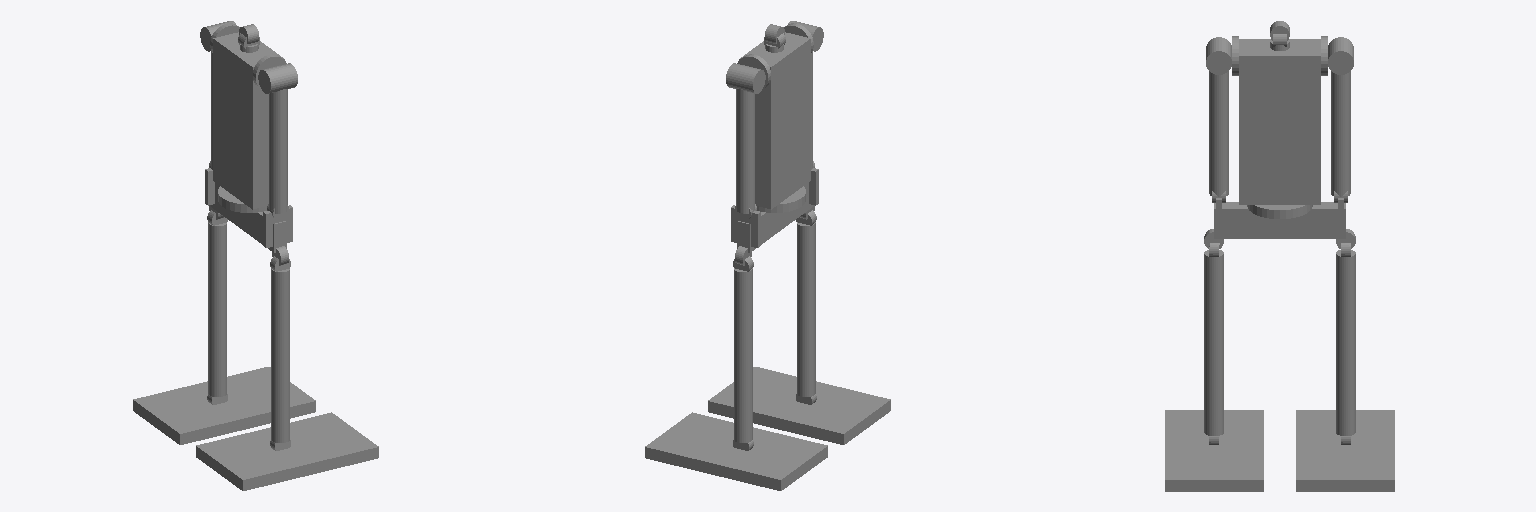
--- Render facts (derived) ---
The picture shows the robot from 3 angles, left to right: view 1: azimuth 30°, elevation 25°; view 2: azimuth 150°, elevation 25°; view 3: azimuth 270°, elevation 25°; orthographic projection.
Robot: stickRobot — 33 links, 32 joints (32 revolute); root link pelvis; default pose: every joint at zero.
Links seen in each view (by area): view 1: rightFoot, leftFoot, chest, torsoPitchLink, rightHipPitchLink, leftHipPitchLink, leftKneePitchLink, rightKneePitchLink, pelvis, rightElbowPitchLink, rightShoulderYawLink, rightShoulderRollLink (+1 smaller); view 2: leftFoot, rightFoot, chest, torsoPitchLink, leftHipPitchLink, rightHipPitchLink, rightKneePitchLink, leftKneePitchLink, pelvis, leftElbowPitchLink, leftShoulderYawLink, leftShoulderRollLink (+1 smaller); view 3: leftFoot, rightFoot, chest, torsoPitchLink, pelvis, leftHipPitchLink, rightHipPitchLink, leftKneePitchLink, rightKneePitchLink, rightElbowPitchLink, leftElbowPitchLink, rightShoulderYawLink (+4 smaller).
Boxes of the visible links, x1,y1,x2,y2 form: rightFoot: [196, 412, 378, 490]; leftFoot: [133, 367, 315, 444]; chest: [213, 32, 284, 137]; torsoPitchLink: [213, 110, 268, 209]; rightHipPitchLink: [271, 269, 289, 357]; leftHipPitchLink: [208, 223, 226, 311]; leftKneePitchLink: [208, 309, 226, 396]; rightKneePitchLink: [271, 355, 289, 442]; pelvis: [211, 183, 286, 252]; rightElbowPitchLink: [269, 142, 287, 201]; rightShoulderYawLink: [269, 89, 287, 144]; rightShoulderRollLink: [258, 63, 297, 93]; leftFoot: [645, 412, 827, 490]; rightFoot: [708, 367, 890, 444]; chest: [739, 32, 810, 137]; torsoPitchLink: [755, 110, 810, 209]; leftHipPitchLink: [734, 268, 752, 357]; rightHipPitchLink: [797, 222, 815, 311]; rightKneePitchLink: [797, 309, 815, 396]; leftKneePitchLink: [734, 355, 752, 442]; pelvis: [737, 183, 812, 252]; leftElbowPitchLink: [736, 142, 754, 201]; leftShoulderYawLink: [736, 89, 754, 144]; leftShoulderRollLink: [726, 63, 765, 93]; leftFoot: [1296, 410, 1394, 491]; rightFoot: [1165, 410, 1263, 491]; chest: [1239, 39, 1320, 129]; torsoPitchLink: [1239, 130, 1320, 204]; pelvis: [1214, 202, 1345, 238]; leftHipPitchLink: [1336, 250, 1355, 346]; rightHipPitchLink: [1204, 250, 1223, 346]; leftKneePitchLink: [1336, 344, 1355, 435]; rightKneePitchLink: [1204, 344, 1223, 435]; rightElbowPitchLink: [1209, 123, 1228, 185]; leftElbowPitchLink: [1331, 123, 1350, 185]; rightShoulderYawLink: [1209, 71, 1228, 125].
Bounding box of the posed robot: 0.5 × 0.7 × 1.44 m (x, y, z).
Geometry: primitives only (box / cylinder / sphere), no mesh files.

robot.urdf — stickRobot:
<?xml version="1.0" ?>
<!-- =================================================================================== -->
<!-- |    This document was autogenerated by xacro from stickbot_humanoid_32dof_controlit/xacro/stickbot_humanoid_32dof.xacro | -->
<!-- |    EDITING THIS FILE BY HAND IS NOT RECOMMENDED                                 | -->
<!-- =================================================================================== -->
<robot name="stickRobot" xmlns:xacro="http://ros.org/wiki/xacro">
  <!-- Its seems that zero mass links are not kosher. I can't find any solid data, only suggestions from people
    as to what small but not too small should be for mass numbers.
    Until better evidence/experience says otherwise, we will use a mass that is ~0.1% * total_mass, and
    the inertia properties of a cylinder. Justification: Most of these virtual links are the rotor attached
    to gearing and any attachment structure.
     -->
  <link name="pelvis">
    <inertial>
      <mass value="2"/>
      <origin xyz="0.0 0.0 0.05"/>
      <inertia ixx="0.008667" ixy="0" ixz="0" iyy="0.008667" iyz="0" izz="0.01667"/>
    </inertial>
    <visual>
      <origin rpy="0 0 0 " xyz="0.0 -0.0 0.05"/>
      <geometry name="pelvis">
        <box size="0.05 0.4 0.1"/>
      </geometry>
      <material name="grey">
        <color rgba="0.627 0.627 0.627 1"/>
      </material>
    </visual>
    <collision>
      <origin rpy="0 0 0 " xyz="0.0 -0.0 0.05"/>
      <geometry name="pelvis">
        <box size="0.05 0.4 0.1"/>
      </geometry>
    </collision>
  </link>
  <!--LEFT LEG-->
  <joint name="leftHipYaw" type="revolute">
    <axis xyz="0 0 1"/>
    <origin rpy="0 0 0" xyz="0 0.2 0.0"/>
    <parent link="pelvis"/>
    <child link="leftHipYawLink"/>
    <dynamics damping="0.1"/>
    <limit effort="100" lower="-3.14" upper="3.14" velocity="1"/>
    <provide_feedback>true</provide_feedback>
  </joint>
  <link name="leftHipYawLink">
    <inertial>
      <mass value="2.0"/>
      <origin xyz="0.0 0.0 -0.015"/>
      <inertia ixx="0.00015" ixy="0" ixz="0" iyy="0.00015" iyz="0" izz="0.000225"/>
    </inertial>
    <visual>
      <origin rpy="0 1.507 0" xyz="0 0.0 -0.015"/>
      <geometry name="leftHipYawLink">
        <cylinder length="0.03" radius="0.03"/>
      </geometry>
      <material name="grey">
        <color rgba="0.627 0.627 0.627 1"/>
      </material>
    </visual>
    <collision>
      <origin rpy="1.507 0 0.0 " xyz="0 0.0 -0.015"/>
      <geometry name="leftHipYawLink">
        <cylinder length="0.03" radius="0.03"/>
      </geometry>
    </collision>
  </link>
  <joint name="leftHipRoll" type="revolute">
    <axis xyz="0 1 0"/>
    <origin rpy="0 0 0" xyz="0 0 -0.03"/>
    <parent link="leftHipYawLink"/>
    <child link="leftHipRollLink"/>
    <dynamics damping="0.1"/>
    <limit effort="100" lower="-3.14" upper="3.14" velocity="1"/>
    <provide_feedback>true</provide_feedback>
  </joint>
  <link name="leftHipRollLink">
    <inertial>
      <mass value="2.0"/>
      <origin xyz="0.0 0.0 -0.015"/>
      <inertia ixx="0.00015" ixy="0" ixz="0" iyy="0.00015" iyz="0" izz="0.000225"/>
    </inertial>
    <visual>
      <origin rpy="1.507 0 0" xyz="0 0 -0.015"/>
      <geometry name="leftHipRollLink">
        <cylinder length="0.03" radius="0.03"/>
      </geometry>
      <material name="grey">
        <color rgba="0.627 0.627 0.627 1"/>
      </material>
    </visual>
    <collision>
      <origin rpy="1.507 0 0.0 " xyz="0 0 -0.015"/>
      <geometry name="leftHipRollLink">
        <cylinder length="0.03" radius="0.03"/>
      </geometry>
    </collision>
  </link>
  <joint name="leftHipPitch" type="revolute">
    <axis xyz="1 0 0"/>
    <origin rpy="0 0 0" xyz="0 0 -0.03"/>
    <parent link="leftHipRollLink"/>
    <child link="leftHipPitchLink"/>
    <dynamics damping="0.1"/>
    <limit effort="100" lower="-3.14" upper="3.14" velocity="1"/>
    <provide_feedback>true</provide_feedback>
  </joint>
  <link name="leftHipPitchLink">
    <inertial>
      <mass value="2.0"/>
      <origin xyz="-0.0 0 -0.15"/>
      <inertia ixx="0.01545" ixy="0" ixz="0" iyy="0.01545" iyz="0" izz="0.0009"/>
    </inertial>
    <visual>
      <origin rpy="0 0 0 " xyz="0 0 -0.15"/>
      <geometry name="leftHipPitchLink">
        <cylinder length="0.3" radius="0.03"/>
      </geometry>
      <material name="grey">
        <color rgba="0.627 0.627 0.627 1"/>
      </material>
    </visual>
    <collision>
      <origin rpy="0 0 0 " xyz="0 0 -0.3"/>
      <geometry name="leftHipPitchLink">
        <cylinder length="0.3" radius="0.03"/>
      </geometry>
    </collision>
  </link>
  <joint name="leftKneePitch" type="revolute">
    <axis xyz="0 1 0"/>
    <origin rpy="0 0 0" xyz="0 0 -0.3"/>
    <parent link="leftHipPitchLink"/>
    <child link="leftKneePitchLink"/>
    <dynamics damping="0.1"/>
    <limit effort="100" lower="-3.14" upper="3.14" velocity="1"/>
    <provide_feedback>true</provide_feedback>
  </joint>
  <link name="leftKneePitchLink">
    <inertial>
      <mass value="2.0"/>
      <origin xyz="-0.0 0 -0.15"/>
      <inertia ixx="0.01545" ixy="0" ixz="0" iyy="0.01545" iyz="0" izz="0.0009"/>
    </inertial>
    <visual>
      <origin rpy="0 0 0 " xyz="0 0 -0.15"/>
      <geometry name="leftKneePitchLink">
        <cylinder length="0.3" radius="0.03"/>
      </geometry>
      <material name="grey">
        <color rgba="0.627 0.627 0.627 1"/>
      </material>
    </visual>
    <collision>
      <origin rpy="0 0 0 " xyz="0 0 -0.15"/>
      <geometry name="leftKneePitchLink">
        <cylinder length="0.3" radius="0.03"/>
      </geometry>
    </collision>
  </link>
  <joint name="leftAnklePitch" type="revolute">
    <axis xyz="0 1 0"/>
    <origin rpy="0 0 0" xyz="0 0 -0.3"/>
    <parent link="leftKneePitchLink"/>
    <child link="leftAnklePitchLink"/>
    <dynamics damping="0.1"/>
    <limit effort="100" lower="-3.14" upper="3.14" velocity="1"/>
    <provide_feedback>true</provide_feedback>
  </joint>
  <link name="leftAnklePitchLink">
    <inertial>
      <mass value="3.0"/>
      <origin xyz="0.0 0.0 -0.015"/>
      <inertia ixx="0.00015" ixy="0" ixz="0" iyy="0.00015" iyz="0" izz="0.000225"/>
    </inertial>
    <visual>
      <origin rpy="1.507 0 0" xyz="0 0 -0.015"/>
      <geometry name="leftAnklePitchLink">
        <cylinder length="0.03" radius="0.03"/>
      </geometry>
      <material name="grey">
        <color rgba="0.627 0.627 0.627 1"/>
      </material>
    </visual>
    <collision>
      <origin rpy="0 0 0.0 " xyz="0 0 -0.015"/>
      <geometry name="leftAnklePitchLink">
        <cylinder length="0.03" radius="0.03"/>
      </geometry>
    </collision>
  </link>
  <joint name="leftAnkleRoll" type="revolute">
    <axis xyz="1 0 0"/>
    <origin rpy="0 0 0" xyz="0.025 0 -0.03"/>
    <parent link="leftAnklePitchLink"/>
    <child link="leftFoot"/>
    <dynamics damping="0.1"/>
    <limit effort="100" lower="-3.14" upper="3.14" velocity="1"/>
    <provide_feedback>true</provide_feedback>
  </joint>
  <link name="leftFoot">
    <inertial>
      <mass value="10"/>
      <origin xyz="0.03 0 -0.01"/>
      <inertia ixx="0.008667" ixy="0" ixz="0" iyy="0.008667" iyz="0" izz="0.01667"/>
    </inertial>
    <visual>
      <origin rpy="0 0 0 " xyz="0.0 0 -0.02"/>
      <geometry name="leftFoot">
        <box size="0.5 0.3 0.04"/>
      </geometry>
      <material name="grey">
        <color rgba="0.627 0.627 0.627 1"/>
      </material>
    </visual>
    <collision>
      <origin rpy="0 0 0 " xyz="0.0 0 -0.02"/>
      <geometry name="leftFoot">
        <box size="0.5 0.3 0.04"/>
      </geometry>
    </collision>
  </link>
  <!--RIGHT LEG-->
  <joint name="rightHipYaw" type="revolute">
    <axis xyz="0 0 1"/>
    <origin rpy="0 0 0" xyz="0 -0.2 0.0"/>
    <dynamics damping="0.1"/>
    <parent link="pelvis"/>
    <child link="rightHipYawLink"/>
    <limit effort="100" lower="-3.14" upper="3.14" velocity="1"/>
    <provide_feedback>true</provide_feedback>
  </joint>
  <link name="rightHipYawLink">
    <inertial>
      <mass value="2.0"/>
      <origin xyz="0.0 0.0 -0.015"/>
      <inertia ixx="0.00015" ixy="0" ixz="0" iyy="0.00015" iyz="0" izz="0.000225"/>
    </inertial>
    <visual>
      <origin rpy="0 1.507 0" xyz="0 0.0 -0.015"/>
      <geometry name="rightHipYawLink">
        <cylinder length="0.03" radius="0.03"/>
      </geometry>
      <material name="grey">
        <color rgba="0.627 0.627 0.627 1"/>
      </material>
    </visual>
    <collision>
      <origin rpy="1.507 0 0.0 " xyz="0 0.0 -0.015"/>
      <geometry name="rightHipYawLink">
        <cylinder length="0.03" radius="0.03"/>
      </geometry>
    </collision>
  </link>
  <joint name="rightHipRoll" type="revolute">
    <axis xyz="0 1 0"/>
    <origin rpy="0 0 0" xyz="0 0 -0.03"/>
    <dynamics damping="0.1"/>
    <parent link="rightHipYawLink"/>
    <child link="rightHipRollLink"/>
    <limit effort="100" lower="-3.14" upper="3.14" velocity="1"/>
    <provide_feedback>true</provide_feedback>
  </joint>
  <link name="rightHipRollLink">
    <inertial>
      <mass value="2.0"/>
      <origin xyz="0.0 0.0 -0.015"/>
      <inertia ixx="0.00015" ixy="0" ixz="0" iyy="0.00015" iyz="0" izz="0.000225"/>
    </inertial>
    <visual>
      <origin rpy="1.507 0 0" xyz="0 0 -0.015"/>
      <geometry name="rightHipRollLink">
        <cylinder length="0.03" radius="0.03"/>
      </geometry>
      <material name="grey">
        <color rgba="0.627 0.627 0.627 1"/>
      </material>
    </visual>
    <collision>
      <origin rpy="1.507 0 0.0 " xyz="0 0 -0.015"/>
      <geometry name="rightHipRollLink">
        <cylinder length="0.03" radius="0.03"/>
      </geometry>
    </collision>
  </link>
  <joint name="rightHipPitch" type="revolute">
    <axis xyz="1 0 0"/>
    <origin rpy="0 0 0" xyz="0 0 -0.03"/>
    <parent link="rightHipRollLink"/>
    <child link="rightHipPitchLink"/>
    <dynamics damping="0.1"/>
    <limit effort="100" lower="-3.14" upper="3.14" velocity="1"/>
    <provide_feedback>true</provide_feedback>
  </joint>
  <link name="rightHipPitchLink">
    <inertial>
      <mass value="2.0"/>
      <origin xyz="-0.0 0 -0.15"/>
      <inertia ixx="0.01545" ixy="0" ixz="0" iyy="0.01545" iyz="0" izz="0.0009"/>
    </inertial>
    <visual>
      <origin rpy="0 0 0 " xyz="0 0 -0.15"/>
      <geometry name="rightHipPitchLink">
        <cylinder length="0.3" radius="0.03"/>
      </geometry>
      <material name="grey">
        <color rgba="0.627 0.627 0.627 1"/>
      </material>
    </visual>
    <collision>
      <origin rpy="0 0 0 " xyz="0 0 -0.3"/>
      <geometry name="rightHipPitchLink">
        <cylinder length="0.3" radius="0.03"/>
      </geometry>
    </collision>
  </link>
  <joint name="rightKneePitch" type="revolute">
    <axis xyz="0 1 0"/>
    <origin rpy="0 0 0" xyz="0 0 -0.3"/>
    <parent link="rightHipPitchLink"/>
    <child link="rightKneePitchLink"/>
    <dynamics damping="0.1"/>
    <limit effort="100" lower="-3.14" upper="3.14" velocity="1"/>
    <provide_feedback>true</provide_feedback>
  </joint>
  <link name="rightKneePitchLink">
    <inertial>
      <mass value="2.0"/>
      <origin xyz="-0.0 0 -0.15"/>
      <inertia ixx="0.01545" ixy="0" ixz="0" iyy="0.01545" iyz="0" izz="0.0009"/>
    </inertial>
    <visual>
      <origin rpy="0 0 0 " xyz="0 0 -0.15"/>
      <geometry name="rightKneePitchLink">
        <cylinder length="0.3" radius="0.03"/>
      </geometry>
      <material name="grey">
        <color rgba="0.627 0.627 0.627 1"/>
      </material>
    </visual>
    <collision>
      <origin rpy="0 0 0 " xyz="0 0 -0.15"/>
      <geometry name="rightKneePitchLink">
        <cylinder length="0.3" radius="0.03"/>
      </geometry>
    </collision>
  </link>
  <joint name="rightAnklePitch" type="revolute">
    <axis xyz="0 1 0"/>
    <origin rpy="0 0 0" xyz="0 0 -0.3"/>
    <dynamics damping="0.1"/>
    <parent link="rightKneePitchLink"/>
    <child link="rightAnklePitchLink"/>
    <limit effort="100" lower="-3.14" upper="3.14" velocity="1"/>
    <provide_feedback>true</provide_feedback>
  </joint>
  <link name="rightAnklePitchLink">
    <inertial>
      <mass value="3.0"/>
      <origin xyz="0.0 0.0 -0.015"/>
      <inertia ixx="0.00015" ixy="0" ixz="0" iyy="0.00015" iyz="0" izz="0.000225"/>
    </inertial>
    <visual>
      <origin rpy="1.507 0 0" xyz="0 0 -0.015"/>
      <geometry name="rightAnklePitchLink">
        <cylinder length="0.03" radius="0.03"/>
      </geometry>
      <material name="grey">
        <color rgba="0.627 0.627 0.627 1"/>
      </material>
    </visual>
    <collision>
      <origin rpy="1.507 0 0" xyz="0 0 -0.015"/>
      <geometry name="rightAnklePitchLink">
        <cylinder length="0.03" radius="0.03"/>
      </geometry>
    </collision>
  </link>
  <joint name="rightAnkleRoll" type="revolute">
    <axis xyz="1 0 0"/>
    <origin rpy="0 0 0" xyz="0.025 0 -0.03"/>
    <parent link="rightAnklePitchLink"/>
    <child link="rightFoot"/>
    <dynamics damping="0.1"/>
    <limit effort="100" lower="-3.14" upper="3.14" velocity="1"/>
    <provide_feedback>true</provide_feedback>
  </joint>
  <link name="rightFoot">
    <inertial>
      <mass value="10"/>
      <origin xyz="0.03 0 -0.02"/>
      <inertia ixx="0.008667" ixy="0" ixz="0" iyy="0.008667" iyz="0" izz="0.01667"/>
    </inertial>
    <visual>
      <origin rpy="0 0 0 " xyz="0.0 0 -0.02"/>
      <geometry name="rightFoot">
        <box size="0.5 0.3 0.04"/>
      </geometry>
      <material name="grey">
        <color rgba="0.627 0.627 0.627 1"/>
      </material>
    </visual>
    <collision>
      <origin rpy="0 0 0 " xyz="0.0 0 -0.02"/>
      <geometry name="rightFoot">
        <box size="0.5 0.3 0.04"/>
      </geometry>
    </collision>
  </link>
  <joint name="torsoYaw" type="revolute">
    <axis xyz="0 0 1"/>
    <origin rpy="0 0 0" xyz="0.0 0.0 0.1"/>
    <dynamics damping="0.1"/>
    <parent link="pelvis"/>
    <child link="torsoYawLink"/>
    <limit effort="100" lower="-3.14" upper="3.14" velocity="10"/>
    <provide_feedback>true</provide_feedback>
  </joint>
  <link name="torsoYawLink">
    <inertial>
      <mass value="1.0"/>
      <origin xyz="0.0 0.0 0.125"/>
      <inertia ixx="0.028125" ixy="0" ixz="0" iyy="0.045" iyz="0" izz="0.028125"/>
    </inertial>
    <visual>
      <origin rpy="0.0 0.0 0.0" xyz="0.0 0.0 0.015"/>
      <geometry name="torsoYawLink">
        <cylinder length="0.03" radius="0.1"/>
      </geometry>
      <material name="grey">
        <color rgba="0.627 0.627 0.627 1"/>
      </material>
    </visual>
    <collision>
      <origin rpy="0.0 0.0 0.0" xyz="0.0 0.0 0.015"/>
      <geometry name="torsoYawLink">
        <cylinder length="0.03" radius="0.1"/>
      </geometry>
    </collision>
  </link>
  <joint name="torsoPitch" type="revolute">
    <axis xyz="0 1 0"/>
    <origin rpy="0 0 0" xyz="0.0 0.0 0.03"/>
    <dynamics damping="0.1"/>
    <parent link="torsoYawLink"/>
    <child link="torsoPitchLink"/>
    <limit effort="100" lower="-3.14" upper="3.14" velocity="10"/>
    <provide_feedback>true</provide_feedback>
  </joint>
  <link name="torsoPitchLink">
    <inertial>
      <mass value="2"/>
      <origin xyz="0.0 0.0 0.125"/>
      <inertia ixx="0.028125" ixy="0" ixz="0" iyy="0.045" iyz="0" izz="0.028125"/>
    </inertial>
    <visual>
      <origin rpy="0.0 0.0 0.0" xyz="0.0 0.0 0.125"/>
      <geometry name="torsoPitchLink">
        <box size="0.12 0.25 0.25"/>
      </geometry>
      <material name="grey">
        <color rgba="0.627 0.627 0.627 1"/>
      </material>
    </visual>
    <collision>
      <origin rpy="0.0 0.0 0.0" xyz="0.0 0.0 0.125"/>
      <geometry name="torsoPitchLink">
        <box size="0.12 0.25 0.25"/>
      </geometry>
    </collision>
  </link>
  <joint name="torsoRoll" type="revolute">
    <axis xyz="0 1 0"/>
    <origin rpy="0 0 0" xyz="0.0 0.0 0.25"/>
    <dynamics damping="0.1"/>
    <parent link="torsoPitchLink"/>
    <child link="chest"/>
    <limit effort="100" lower="-3.14" upper="3.14" velocity="10"/>
    <provide_feedback>true</provide_feedback>
  </joint>
  <link name="chest">
    <inertial>
      <mass value="2"/>
      <origin xyz="0.0 0.0 0.125"/>
      <inertia ixx="0.028125" ixy="0" ixz="0" iyy="0.045" iyz="0" izz="0.028125"/>
    </inertial>
    <visual>
      <origin rpy="0.0 0.0 0.0" xyz="0.0 0.0 0.125"/>
      <geometry name="chest">
        <box size="0.12 0.25 0.25"/>
      </geometry>
      <material name="grey">
        <color rgba="0.627 0.627 0.627 1"/>
      </material>
    </visual>
    <collision>
      <origin rpy="0.0 0.0 0.0" xyz="0.0 0.0 0.125"/>
      <geometry name="chest">
        <box size="0.12 0.25 0.25"/>
      </geometry>
    </collision>
  </link>
  <joint name="rightShoulderPitch" type="revolute">
    <axis xyz="0 1 0"/>
    <origin rpy="0 0 0" xyz="0.0 -0.125 0.22"/>
    <dynamics damping="0.1"/>
    <parent link="chest"/>
    <child link="rightShoulderPitchLink"/>
    <limit effort="100" lower="-3.14" upper="3.14" velocity="10"/>
    <provide_feedback>true</provide_feedback>
  </joint>
  <link name="rightShoulderPitchLink">
    <inertial>
      <mass value="1"/>
      <origin xyz="0.0 -0.01 0.0"/>
      <inertia ixx="0.028125" ixy="0" ixz="0" iyy="0.045" iyz="0" izz="0.028125"/>
    </inertial>
    <visual>
      <origin rpy="1.57 0.0 0.0" xyz="0.0 -0.01 0.0"/>
      <geometry name="rightShoulderPitchLink">
        <cylinder length="0.02" radius="0.06"/>
      </geometry>
      <material name="grey">
        <color rgba="0.627 0.627 0.627 1"/>
      </material>
    </visual>
    <collision>
      <origin rpy="1.57 0.0 0.0" xyz="0.0 -0.01 0.0"/>
      <geometry name="rightShoulderPitchLink">
        <cylinder length="0.02" radius="0.06"/>
      </geometry>
    </collision>
  </link>
  <joint name="rightShoulderRoll" type="revolute">
    <axis xyz="1 0 0"/>
    <origin rpy="0 0 0" xyz="0.0 -0.04 0.0"/>
    <dynamics damping="0.1"/>
    <parent link="rightShoulderPitchLink"/>
    <child link="rightShoulderRollLink"/>
    <limit effort="100" lower="-3.14" upper="3.14" velocity="10"/>
    <provide_feedback>true</provide_feedback>
  </joint>
  <link name="rightShoulderRollLink">
    <inertial>
      <mass value="1"/>
      <origin xyz="0.0 -0.02 0.0"/>
      <inertia ixx="0.028125" ixy="0" ixz="0" iyy="0.045" iyz="0" izz="0.028125"/>
    </inertial>
    <visual>
      <origin rpy="0.0 1.57 0.0" xyz="0.0 -0.02 0.0"/>
      <geometry name="rightShoulderRollLink">
        <cylinder length="0.1" radius="0.04"/>
      </geometry>
      <material name="grey">
        <color rgba="0.627 0.627 0.627 1"/>
      </material>
    </visual>
    <collision>
      <origin rpy="0.0 1.57 0.0" xyz="0.0 -0.02 0.0"/>
      <geometry name="rightShoulderRollLink">
        <cylinder length="0.1" radius="0.04"/>
      </geometry>
    </collision>
  </link>
  <joint name="rightShoulderYaw" type="revolute">
    <axis xyz="0 0 1"/>
    <origin rpy="0 0 0" xyz="0.0 -0.02 -0.02"/>
    <dynamics damping="0.1"/>
    <parent link="rightShoulderRollLink"/>
    <child link="rightShoulderYawLink"/>
    <limit effort="100" lower="-3.14" upper="3.14" velocity="10"/>
    <provide_feedback>true</provide_feedback>
  </joint>
  <link name="rightShoulderYawLink">
    <inertial>
      <mass value="2"/>
      <origin xyz="0.0 0.0 -0.1"/>
      <inertia ixx="0.028125" ixy="0" ixz="0" iyy="0.045" iyz="0" izz="0.028125"/>
    </inertial>
    <visual>
      <origin rpy="0.0 0.0 0.0" xyz="0.0 0.0 -0.1"/>
      <geometry name="rightShoulderYawLink">
        <cylinder length="0.2" radius="0.03"/>
      </geometry>
      <material name="grey">
        <color rgba="0.627 0.627 0.627 1"/>
      </material>
    </visual>
    <collision>
      <origin rpy="0.0 0.0 0.0" xyz="0.0 0.0 -0.1"/>
      <geometry name="rightShoulderYawLink">
        <cylinder length="0.2" radius="0.03"/>
      </geometry>
    </collision>
  </link>
  <joint name="rightElbowPitch" type="revolute">
    <axis xyz="0 1 0"/>
    <origin rpy="0 0 0" xyz="0.0 -0.0 -0.2"/>
    <dynamics damping="0.1"/>
    <parent link="rightShoulderYawLink"/>
    <child link="rightElbowPitchLink"/>
    <limit effort="100" lower="-3.14" upper="3.14" velocity="10"/>
    <provide_feedback>true</provide_feedback>
  </joint>
  <link name="rightElbowPitchLink">
    <inertial>
      <mass value="2"/>
      <origin xyz="0.0 0.0 -0.1"/>
      <inertia ixx="0.028125" ixy="0" ixz="0" iyy="0.045" iyz="0" izz="0.028125"/>
    </inertial>
    <visual>
      <origin rpy="0.0 0.0 0.0" xyz="0.0 0.0 -0.1"/>
      <geometry name="rightElbowPitchLink">
        <cylinder length="0.2" radius="0.03"/>
      </geometry>
      <material name="grey">
        <color rgba="0.627 0.627 0.627 1"/>
      </material>
    </visual>
    <collision>
      <origin rpy="0.0 0.0 0.0" xyz="0.0 0.0 -0.1"/>
      <geometry name="rightElbowPitchLink">
        <cylinder length="0.2" radius="0.03"/>
      </geometry>
    </collision>
  </link>
  <joint name="rightForearmYaw" type="revolute">
    <axis xyz="0 0 1"/>
    <origin rpy="0 0 0" xyz="0.0 -0.0 -0.2"/>
    <dynamics damping="0.1"/>
    <parent link="rightElbowPitchLink"/>
    <child link="rightForearmYawLink"/>
    <limit effort="100" lower="-3.14" upper="3.14" velocity="10"/>
    <provide_feedback>true</provide_feedback>
  </joint>
  <link name="rightForearmYawLink">
    <inertial>
      <mass value="2"/>
      <origin xyz="0.0 0.0 -0.02"/>
      <inertia ixx="0.028125" ixy="0" ixz="0" iyy="0.045" iyz="0" izz="0.028125"/>
    </inertial>
    <visual>
      <origin rpy="0.0 0.0 0.0" xyz="0.0 0.0 -0.02"/>
      <geometry name="rightForearmYawLink">
        <cylinder length="0.04" radius="0.03"/>
      </geometry>
      <material name="grey">
        <color rgba="0.627 0.627 0.627 1"/>
      </material>
    </visual>
    <collision>
      <origin rpy="0.0 0.0 0.0" xyz="0.0 0.0 -0.02"/>
      <geometry name="rightForearmYawLink">
        <cylinder length="0.04" radius="0.03"/>
      </geometry>
    </collision>
  </link>
  <joint name="rightWristRoll" type="revolute">
    <axis xyz="0 1 0"/>
    <origin rpy="0 0 0" xyz="0.0 -0.0 -0.02"/>
    <dynamics damping="0.1"/>
    <parent link="rightForearmYawLink"/>
    <child link="rightWristRollLink"/>
    <limit effort="100" lower="-3.14" upper="3.14" velocity="10"/>
    <provide_feedback>true</provide_feedback>
  </joint>
  <link name="rightWristRollLink">
    <inertial>
      <mass value="1"/>
      <origin xyz="0.0 0.0 -0.02"/>
      <inertia ixx="0.028125" ixy="0" ixz="0" iyy="0.045" iyz="0" izz="0.028125"/>
    </inertial>
    <visual>
      <origin rpy="1.57 0.0 0.0" xyz="0.0 0.0 -0.02"/>
      <geometry name="rightWristRollLink">
        <cylinder length="0.04" radius="0.03"/>
      </geometry>
      <material name="grey">
        <color rgba="0.627 0.627 0.627 1"/>
      </material>
    </visual>
    <collision>
      <origin rpy="1.57 0.0 0.0" xyz="0.0 0.0 -0.02"/>
      <geometry name="rightWristRollLink">
        <cylinder length="0.04" radius="0.03"/>
      </geometry>
    </collision>
  </link>
  <joint name="rightWristPitch" type="revolute">
    <axis xyz="0 1 0"/>
    <origin rpy="0 0 0" xyz="0.0 -0.0 -0.02"/>
    <dynamics damping="0.1"/>
    <parent link="rightWristRollLink"/>
    <child link="rightPalm"/>
    <limit effort="100" lower="-3.14" upper="3.14" velocity="10"/>
    <provide_feedback>true</provide_feedback>
  </joint>
  <link name="rightPalm">
    <inertial>
      <mass value="1"/>
      <origin xyz="0.0 0.0 -0.06"/>
      <inertia ixx="0.028125" ixy="0" ixz="0" iyy="0.045" iyz="0" izz="0.028125"/>
    </inertial>
    <visual>
      <origin rpy="0.0 0.0 0.0" xyz="0.0 0.0 -0.06"/>
      <geometry name="rightPalm">
        <box size="0.1 0.02 0.12"/>
      </geometry>
      <material name="grey">
        <color rgba="0.627 0.627 0.627 1"/>
      </material>
    </visual>
    <collision>
      <origin rpy="0.0 0.0 0.0" xyz="0.0 0.0 -0.06"/>
      <geometry name="rightPalm">
        <box size="0.1 0.02 0.12"/>
      </geometry>
    </collision>
  </link>
  <joint name="leftShoulderPitch" type="revolute">
    <axis xyz="0 1 0"/>
    <origin rpy="0 0 0" xyz="0.0 0.125 0.22"/>
    <dynamics damping="0.1"/>
    <parent link="chest"/>
    <child link="leftShoulderPitchLink"/>
    <limit effort="100" lower="-3.14" upper="3.14" velocity="10"/>
    <provide_feedback>true</provide_feedback>
  </joint>
  <link name="leftShoulderPitchLink">
    <inertial>
      <mass value="1"/>
      <origin xyz="0.0 0.01 0.0"/>
      <inertia ixx="0.028125" ixy="0" ixz="0" iyy="0.045" iyz="0" izz="0.028125"/>
    </inertial>
    <visual>
      <origin rpy="1.57 0.0 0.0" xyz="0.0 0.01 0.0"/>
      <geometry name="leftShoulderPitchLink">
        <cylinder length="0.02" radius="0.06"/>
      </geometry>
      <material name="grey">
        <color rgba="0.627 0.627 0.627 1"/>
      </material>
    </visual>
    <collision>
      <origin rpy="1.57 0.0 0.0" xyz="0.0 0.01 0.0"/>
      <geometry name="leftShoulderPitchLink">
        <cylinder length="0.02" radius="0.06"/>
      </geometry>
    </collision>
  </link>
  <joint name="leftShoulderRoll" type="revolute">
    <axis xyz="1 0 0"/>
    <origin rpy="0 0 0" xyz="0.0 0.04 0.0"/>
    <dynamics damping="0.1"/>
    <parent link="leftShoulderPitchLink"/>
    <child link="leftShoulderRollLink"/>
    <limit effort="100" lower="-3.14" upper="3.14" velocity="10"/>
    <provide_feedback>true</provide_feedback>
  </joint>
  <link name="leftShoulderRollLink">
    <inertial>
      <mass value="1"/>
      <origin xyz="0.0 0.02 0.0"/>
      <inertia ixx="0.028125" ixy="0" ixz="0" iyy="0.045" iyz="0" izz="0.028125"/>
    </inertial>
    <visual>
      <origin rpy="0.0 1.57 0.0" xyz="0.0 0.02 0.0"/>
      <geometry name="leftShoulderRollLink">
        <cylinder length="0.1" radius="0.04"/>
      </geometry>
      <material name="grey">
        <color rgba="0.627 0.627 0.627 1"/>
      </material>
    </visual>
    <collision>
      <origin rpy="0.0 1.57 0.0" xyz="0.0 0.02 0.0"/>
      <geometry name="leftShoulderRollLink">
        <cylinder length="0.1" radius="0.04"/>
      </geometry>
    </collision>
  </link>
  <joint name="leftShoulderYaw" type="revolute">
    <axis xyz="0 0 1"/>
    <origin rpy="0 0 0" xyz="0.0 0.02 -0.02"/>
    <dynamics damping="0.1"/>
    <parent link="leftShoulderRollLink"/>
    <child link="leftShoulderYawLink"/>
    <limit effort="100" lower="-3.14" upper="3.14" velocity="10"/>
    <provide_feedback>true</provide_feedback>
  </joint>
  <link name="leftShoulderYawLink">
    <inertial>
      <mass value="2"/>
      <origin xyz="0.0 0.0 -0.1"/>
      <inertia ixx="0.028125" ixy="0" ixz="0" iyy="0.045" iyz="0" izz="0.028125"/>
    </inertial>
    <visual>
      <origin rpy="0.0 0.0 0.0" xyz="0.0 0.0 -0.1"/>
      <geometry name="leftShoulderYawLink">
        <cylinder length="0.2" radius="0.03"/>
      </geometry>
      <material name="grey">
        <color rgba="0.627 0.627 0.627 1"/>
      </material>
    </visual>
    <collision>
      <origin rpy="0.0 0.0 0.0" xyz="0.0 0.0 -0.1"/>
      <geometry name="leftShoulderYawLink">
        <cylinder length="0.2" radius="0.03"/>
      </geometry>
    </collision>
  </link>
  <joint name="leftElbowPitch" type="revolute">
    <axis xyz="0 1 0"/>
    <origin rpy="0 0 0" xyz="0.0 -0.0 -0.2"/>
    <dynamics damping="0.1"/>
    <parent link="leftShoulderYawLink"/>
    <child link="leftElbowPitchLink"/>
    <limit effort="100" lower="-3.14" upper="3.14" velocity="10"/>
    <provide_feedback>true</provide_feedback>
  </joint>
  <link name="leftElbowPitchLink">
    <inertial>
      <mass value="2"/>
      <origin xyz="0.0 0.0 -0.1"/>
      <inertia ixx="0.028125" ixy="0" ixz="0" iyy="0.045" iyz="0" izz="0.028125"/>
    </inertial>
    <visual>
      <origin rpy="0.0 0.0 0.0" xyz="0.0 0.0 -0.1"/>
      <geometry name="leftElbowPitchLink">
        <cylinder length="0.2" radius="0.03"/>
      </geometry>
      <material name="grey">
        <color rgba="0.627 0.627 0.627 1"/>
      </material>
    </visual>
    <collision>
      <origin rpy="0.0 0.0 0.0" xyz="0.0 0.0 -0.1"/>
      <geometry name="leftElbowPitchLink">
        <cylinder length="0.2" radius="0.03"/>
      </geometry>
    </collision>
  </link>
  <joint name="leftForearmYaw" type="revolute">
    <axis xyz="0 0 1"/>
    <origin rpy="0 0 0" xyz="0.0 -0.0 -0.2"/>
    <dynamics damping="0.1"/>
    <parent link="leftElbowPitchLink"/>
    <child link="leftForearmYawLink"/>
    <limit effort="100" lower="-3.14" upper="3.14" velocity="10"/>
    <provide_feedback>true</provide_feedback>
  </joint>
  <link name="leftForearmYawLink">
    <inertial>
      <mass value="2"/>
      <origin xyz="0.0 0.0 -0.02"/>
      <inertia ixx="0.028125" ixy="0" ixz="0" iyy="0.045" iyz="0" izz="0.028125"/>
    </inertial>
    <visual>
      <origin rpy="0.0 0.0 0.0" xyz="0.0 0.0 -0.02"/>
      <geometry name="leftForearmYawLink">
        <cylinder length="0.04" radius="0.03"/>
      </geometry>
      <material name="grey">
        <color rgba="0.627 0.627 0.627 1"/>
      </material>
    </visual>
    <collision>
      <origin rpy="0.0 0.0 0.0" xyz="0.0 0.0 -0.02"/>
      <geometry name="leftForearmYawLink">
        <cylinder length="0.04" radius="0.03"/>
      </geometry>
    </collision>
  </link>
  <joint name="leftWristRoll" type="revolute">
    <axis xyz="0 1 0"/>
    <origin rpy="0 0 0" xyz="0.0 -0.0 -0.02"/>
    <dynamics damping="0.1"/>
    <parent link="leftForearmYawLink"/>
    <child link="leftWristRollLink"/>
    <limit effort="100" lower="-3.14" upper="3.14" velocity="10"/>
    <provide_feedback>true</provide_feedback>
  </joint>
  <link name="leftWristRollLink">
    <inertial>
      <mass value="1"/>
      <origin xyz="0.0 0.0 -0.02"/>
      <inertia ixx="0.028125" ixy="0" ixz="0" iyy="0.045" iyz="0" izz="0.028125"/>
    </inertial>
    <visual>
      <origin rpy="1.57 0.0 0.0" xyz="0.0 0.0 -0.02"/>
      <geometry name="leftWristRollLink">
        <cylinder length="0.04" radius="0.03"/>
      </geometry>
      <material name="grey">
        <color rgba="0.627 0.627 0.627 1"/>
      </material>
    </visual>
    <collision>
      <origin rpy="1.57 0.0 0.0" xyz="0.0 0.0 -0.02"/>
      <geometry name="leftWristRollLink">
        <cylinder length="0.04" radius="0.03"/>
      </geometry>
    </collision>
  </link>
  <joint name="leftWristPitch" type="revolute">
    <axis xyz="0 1 0"/>
    <origin rpy="0 0 0" xyz="0.0 -0.0 -0.02"/>
    <dynamics damping="0.1"/>
    <parent link="leftWristRollLink"/>
    <child link="leftPalm"/>
    <limit effort="100" lower="-3.14" upper="3.14" velocity="10"/>
    <provide_feedback>true</provide_feedback>
  </joint>
  <link name="leftPalm">
    <inertial>
      <mass value="1"/>
      <origin xyz="0.0 0.0 -0.06"/>
      <inertia ixx="0.028125" ixy="0" ixz="0" iyy="0.045" iyz="0" izz="0.028125"/>
    </inertial>
    <visual>
      <origin rpy="0.0 0.0 0.0" xyz="0.0 0.0 -0.06"/>
      <geometry name="leftPalm">
        <box size="0.1 0.02 0.12"/>
      </geometry>
      <material name="grey">
        <color rgba="0.627 0.627 0.627 1"/>
      </material>
    </visual>
    <collision>
      <origin rpy="0.0 0.0 0.0" xyz="0.0 0.0 -0.06"/>
      <geometry name="leftPalm">
        <box size="0.1 0.02 0.12"/>
      </geometry>
    </collision>
  </link>
  <joint name="neckYaw" type="revolute">
    <axis xyz="0 0 1"/>
    <origin rpy="0 0 0" xyz="0.0 -0.0 0.25"/>
    <dynamics damping="0.1"/>
    <parent link="chest"/>
    <child link="neckYawLink"/>
    <limit effort="100" lower="-3.14" upper="3.14" velocity="10"/>
    <provide_feedback>true</provide_feedback>
  </joint>
  <link name="neckYawLink">
    <inertial>
      <mass value="0.5"/>
      <origin xyz="0.0 0.0 0.01"/>
      <inertia ixx="0.0028125" ixy="0" ixz="0" iyy="0.0045" iyz="0" izz="0.0028125"/>
    </inertial>
    <visual>
      <origin rpy="0.0 0.0 0.0" xyz="0.0 0.0 0.0"/>
      <geometry name="neckYawLink">
        <cylinder length="0.04" radius="0.03"/>
      </geometry>
      <material name="grey">
        <color rgba="0.627 0.627 0.627 1"/>
      </material>
    </visual>
    <collision>
      <origin rpy="0.0 0.0 0.0" xyz="0.0 0.0 0.0"/>
      <geometry name="neckYawLink">
        <cylinder length="0.04" radius="0.03"/>
      </geometry>
    </collision>
  </link>
  <joint name="neckRoll" type="revolute">
    <axis xyz="0 1 0"/>
    <origin rpy="0 0 0" xyz="0.0 -0.0 0.02"/>
    <dynamics damping="0.1"/>
    <parent link="neckYawLink"/>
    <child link="neckRollLink"/>
    <limit effort="100" lower="-3.14" upper="3.14" velocity="10"/>
    <provide_feedback>true</provide_feedback>
  </joint>
  <link name="neckRollLink">
    <inertial>
      <mass value="0.5"/>
      <origin xyz="0.0 0.0 0.01"/>
      <inertia ixx="0.0028125" ixy="0" ixz="0" iyy="0.0045" iyz="0" izz="0.0028125"/>
    </inertial>
    <visual>
      <origin rpy="1.57 0.0 0.0" xyz="0.0 0.0 0.01"/>
      <geometry name="neckRollLink">
        <cylinder length="0.04" radius="0.03"/>
      </geometry>
      <material name="grey">
        <color rgba="0.627 0.627 0.627 1"/>
      </material>
    </visual>
    <collision>
      <origin rpy="1.57 0.0 0.0" xyz="0.0 0.0 0.01"/>
      <geometry name="neckRollLink">
        <cylinder length="0.04" radius="0.03"/>
      </geometry>
    </collision>
  </link>
  <joint name="neckPitch" type="revolute">
    <axis xyz="1 0 0"/>
    <origin rpy="0 0 0" xyz="0.0 -0.0 0.02"/>
    <dynamics damping="0.1"/>
    <parent link="neckRollLink"/>
    <child link="neckPitchLink"/>
    <limit effort="100" lower="-3.14" upper="3.14" velocity="10"/>
    <provide_feedback>true</provide_feedback>
  </joint>
  <link name="neckPitchLink">
    <inertial>
      <mass value="0.5"/>
      <origin xyz="0.0 0.0 0.01"/>
      <inertia ixx="0.0028125" ixy="0" ixz="0" iyy="0.0045" iyz="0" izz="0.0028125"/>
    </inertial>
    <visual>
      <origin rpy="0.0 1.57 0.0" xyz="0.0 0.0 0.01"/>
      <geometry name="neckPitchLink">
        <cylinder length="0.04" radius="0.03"/>
      </geometry>
      <material name="grey">
        <color rgba="0.627 0.627 0.627 1"/>
      </material>
    </visual>
    <collision>
      <origin rpy="0.0 1.57 0.0" xyz="0.0 0.0 0.01"/>
      <geometry name="neckPitchLink">
        <cylinder length="0.04" radius="0.03"/>
      </geometry>
    </collision>
  </link>
  <gazebo reference="leftHipYaw">
    <provideFeedback value="true"/>
  </gazebo>
  <gazebo reference="leftHipRoll">
    <provideFeedback value="true"/>
  </gazebo>
  <gazebo reference="leftHipPitch">
    <provideFeedback value="true"/>
  </gazebo>
  <gazebo reference="leftKneePitch">
    <provideFeedback value="true"/>
  </gazebo>
  <gazebo reference="leftAnklePitch">
    <provideFeedback value="true"/>
  </gazebo>
  <gazebo reference="leftAnkleRoll">
    <provideFeedback value="true"/>
  </gazebo>
  <gazebo reference="rightHipYaw">
    <provideFeedback value="true"/>
  </gazebo>
  <gazebo reference="rightHipRoll">
    <provideFeedback value="true"/>
  </gazebo>
  <gazebo reference="rightHipPitch">
    <provideFeedback value="true"/>
  </gazebo>
  <gazebo reference="rightKneePitch">
    <provideFeedback value="true"/>
  </gazebo>
  <gazebo reference="rightAnklePitch">
    <provideFeedback value="true"/>
  </gazebo>
  <gazebo reference="rightAnkleRoll">
    <provideFeedback value="true"/>
  </gazebo>
  <gazebo reference="torsoYaw">
    <provideFeedback value="true"/>
  </gazebo>
  <gazebo reference="torsoPitch">
    <provideFeedback value="true"/>
  </gazebo>
  <gazebo reference="torsoRoll">
    <provideFeedback value="true"/>
  </gazebo>
  <gazebo reference="leftShoulderPitch">
    <provideFeedback value="true"/>
  </gazebo>
  <gazebo reference="leftShoulderRoll">
    <provideFeedback value="true"/>
  </gazebo>
  <gazebo reference="leftShoulderYaw">
    <provideFeedback value="true"/>
  </gazebo>
  <gazebo reference="leftElbowPitch">
    <provideFeedback value="true"/>
  </gazebo>
  <gazebo reference="leftForearmYaw">
    <provideFeedback value="true"/>
  </gazebo>
  <gazebo reference="leftWristRoll">
    <provideFeedback value="true"/>
  </gazebo>
  <gazebo reference="leftWristPitch">
    <provideFeedback value="true"/>
  </gazebo>
  <gazebo reference="neckYaw">
    <provideFeedback value="true"/>
  </gazebo>
  <gazebo reference="neckRoll">
    <provideFeedback value="true"/>
  </gazebo>
  <gazebo reference="neckPitch">
    <provideFeedback value="true"/>
  </gazebo>
  <gazebo reference="rightShoulderPitch">
    <provideFeedback value="true"/>
  </gazebo>
  <gazebo reference="rightShoulderRoll">
    <provideFeedback value="true"/>
  </gazebo>
  <gazebo reference="rightShoulderYaw">
    <provideFeedback value="true"/>
  </gazebo>
  <gazebo reference="rightElbowPitch">
    <provideFeedback value="true"/>
  </gazebo>
  <gazebo reference="rightForearmYaw">
    <provideFeedback value="true"/>
  </gazebo>
  <gazebo reference="rightWristRoll">
    <provideFeedback value="true"/>
  </gazebo>
  <gazebo reference="rightWristPitch">
    <provideFeedback value="true"/>
  </gazebo>
  <gazebo reference="leftAnkleRoll">
    <sensor name="leftFootSixAxis" type="force_torque">
      <pose>0.0215646 0.0 -0.051054 3.14 0.0 0.0</pose>
      <!--sensor_number id="FT001SIM"/>
      <node id="/sensors/leftFootSixAxis"/>
      <api name="TurbodriverForceTorqueSensor"/-->
      <always_on>true</always_on>
      <update_rate>1000</update_rate>
      <force_torque>
        <frame>sensor</frame>
      </force_torque>
    </sensor>
  </gazebo>
  <gazebo reference="pelvis">
    <sensor name="pelvisMiddleImu" type="imu">
      <always_on>true</always_on>
      <pose>0 0 0 0 0 0 </pose>
      <!--node name="/sensors/middlePelvisIMU"/>
      <api name="val_imu_gazebo_interface/ImuGazeboInterface"/>
      <port name="none"/-->
      <imu>
        <noise>
          <type>gaussian</type>
          <rate>
            <mean>0</mean>
            <stddev>0.0002</stddev>
            <bias_mean>7.5e-06</bias_mean>
            <bias_stddev>8e-07</bias_stddev>
          </rate>
          <accel>
            <mean>0</mean>
            <stddev>0.017</stddev>
            <bias_mean>0.1</bias_mean>
            <bias_stddev>0.001</bias_stddev>
          </accel>
        </noise>
      </imu>
    </sensor>
  </gazebo>
  <gazebo>
    <plugin filename="libgazebo_ros_imu.so" name="imu_plugin_ros">
      <alwaysOn>true</alwaysOn>
      <bodyName>pelvis</bodyName>
      <topicName>pelvisMiddleImu/imu</topicName>
      <serviceName>pelvisMiddleImu/imu_service</serviceName>
      <gaussianNoise>0.0</gaussianNoise>
      <updateRate>1000.0</updateRate>
    </plugin>
  </gazebo>
  <gazebo reference="rightAnkleRoll">
    <sensor name="rightFootSixAxis" type="force_torque">
      <pose>0.0215646 0.0 -0.051054 3.14 0.0 0.0</pose>
      <!--sensor_number id="FT001SIM"/>
      <node id="/sensors/rightFootSixAxis"/>
      <api name="TurbodriverForceTorqueSensor"/-->
      <always_on>true</always_on>
      <update_rate>1000</update_rate>
      <force_torque>
        <frame>sensor</frame>
      </force_torque>
    </sensor>
  </gazebo>
  <gazebo version="1.2">
    <!-- <plugin filename="libRAPidPlugin.so" name="RAPid_plugin"/> -->
    <plugin filename="libSMControlPlugin.so" name="SMControlPlugin">
      <node>/sm_control_plugin</node>
    </plugin>
    <!-- The following plugin provides ground truth odometry -->
    <!-- <plugin name="pos_plugin_ros" filename="libgazebo_ros_p3d.so">
            <alwaysOn>true</alwaysOn>
            <updateRate>1000.0</updateRate>
            <bodyName>pelvis</bodyName>
            <topicName>/stickbot_humanoid_32dof_controller/pose</topicName>
            <frameName>world</frameName>
            <rpyOffset>0 0 0</rpyOffset>
            <xyzOffset>0 0 0</xyzOffset>
        </plugin> -->
  </gazebo>
</robot>
